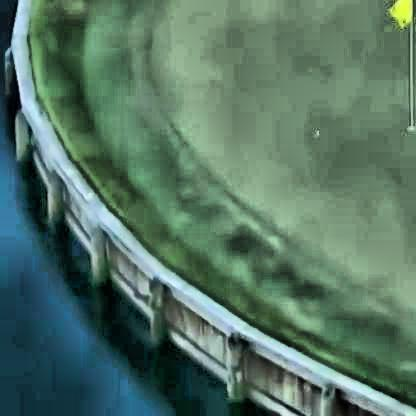golfball: (311, 127, 316, 134)
